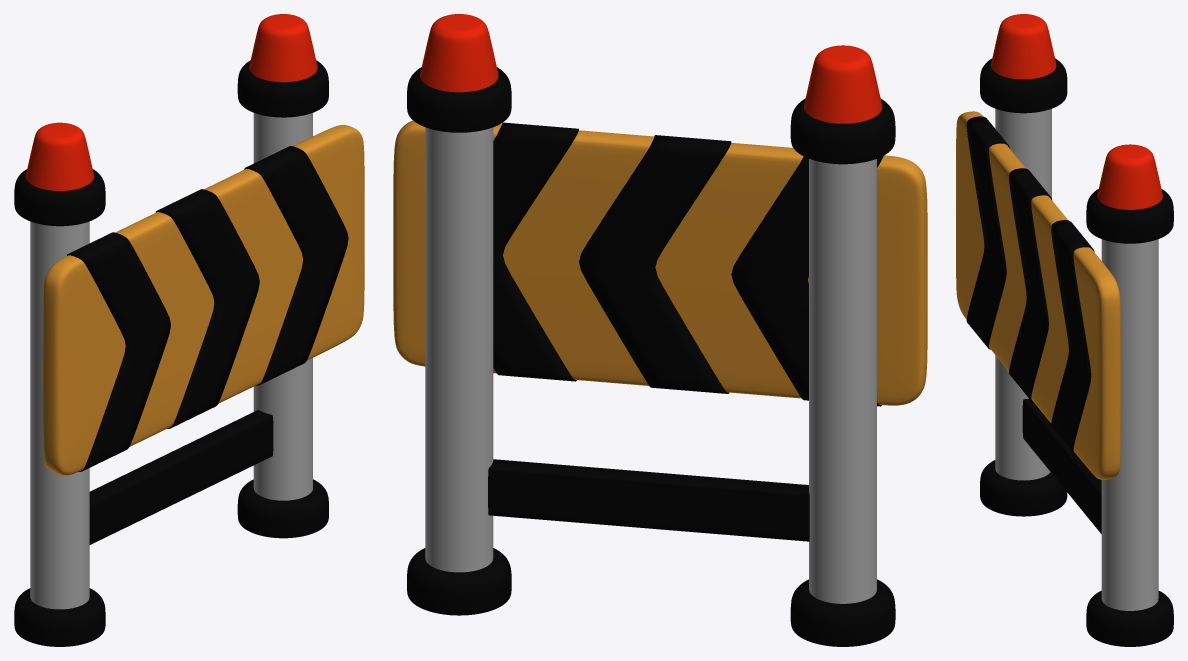
3 views of the same model, side by side, from view 1: azimuth 30°, elevation 25°; view 2: azimuth 150°, elevation 25°; view 3: azimuth 270°, elevation 25° (orthographic). The views are drawn at different scales.
Visible parts, largest first — view 1: Cube, Cube.002, Cylinder, Cube.001, Cylinder.003, Cylinder.001, Cylinder.002; view 2: Cylinder, Cube, Cube.002, Cube.001, Cylinder.003, Cylinder.001, Cylinder.002; view 3: Cylinder, Cube, Cube.002, Cylinder.003, Cylinder.001, Cylinder.002, Cube.001.
Boxes of the visible parts, x1=… form: Cube: x1=42, y1=125, x2=364, y2=475; Cube.002: x1=67, y1=146, x2=348, y2=471; Cylinder: x1=30, y1=113, x2=312, y2=609; Cube.001: x1=89, y1=410, x2=273, y2=544; Cylinder.003: x1=25, y1=14, x2=317, y2=190; Cylinder.001: x1=14, y1=479, x2=328, y2=646; Cylinder.002: x1=14, y1=60, x2=328, y2=226; Cylinder: x1=425, y1=127, x2=876, y2=603; Cube: x1=393, y1=120, x2=927, y2=405; Cube.002: x1=493, y1=122, x2=883, y2=406; Cube.001: x1=488, y1=459, x2=809, y2=541; Cylinder.003: x1=420, y1=14, x2=882, y2=123; Cylinder.001: x1=407, y1=548, x2=895, y2=646; Cylinder.002: x1=407, y1=67, x2=895, y2=164; Cylinder: x1=995, y1=108, x2=1158, y2=610; Cube: x1=956, y1=111, x2=1120, y2=479; Cube.002: x1=966, y1=116, x2=1094, y2=452; Cylinder.003: x1=991, y1=14, x2=1162, y2=209; Cylinder.001: x1=980, y1=460, x2=1173, y2=646; Cylinder.002: x1=980, y1=58, x2=1173, y2=243; Cube.001: x1=1022, y1=398, x2=1101, y2=533.
Size of the model in its own units: 1.25 by 1.53 by 0.6326.
